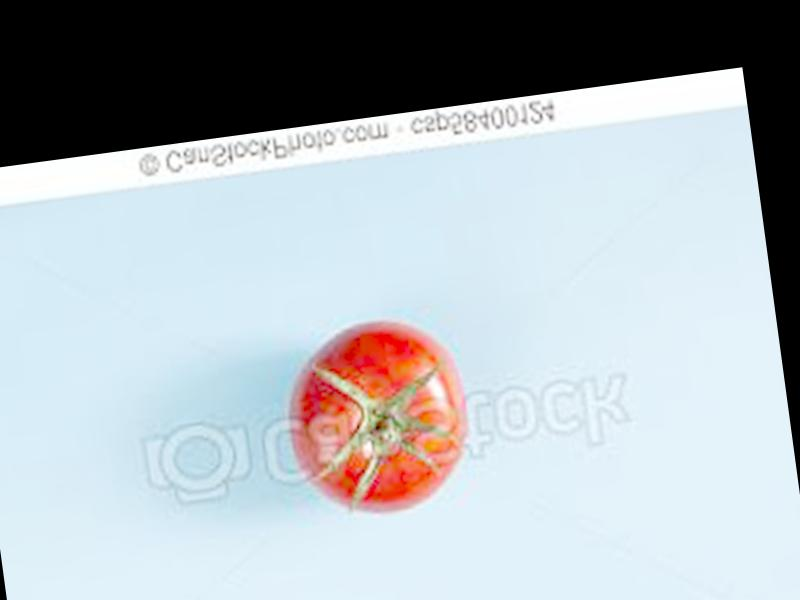Tomato: (280, 307, 476, 522)
